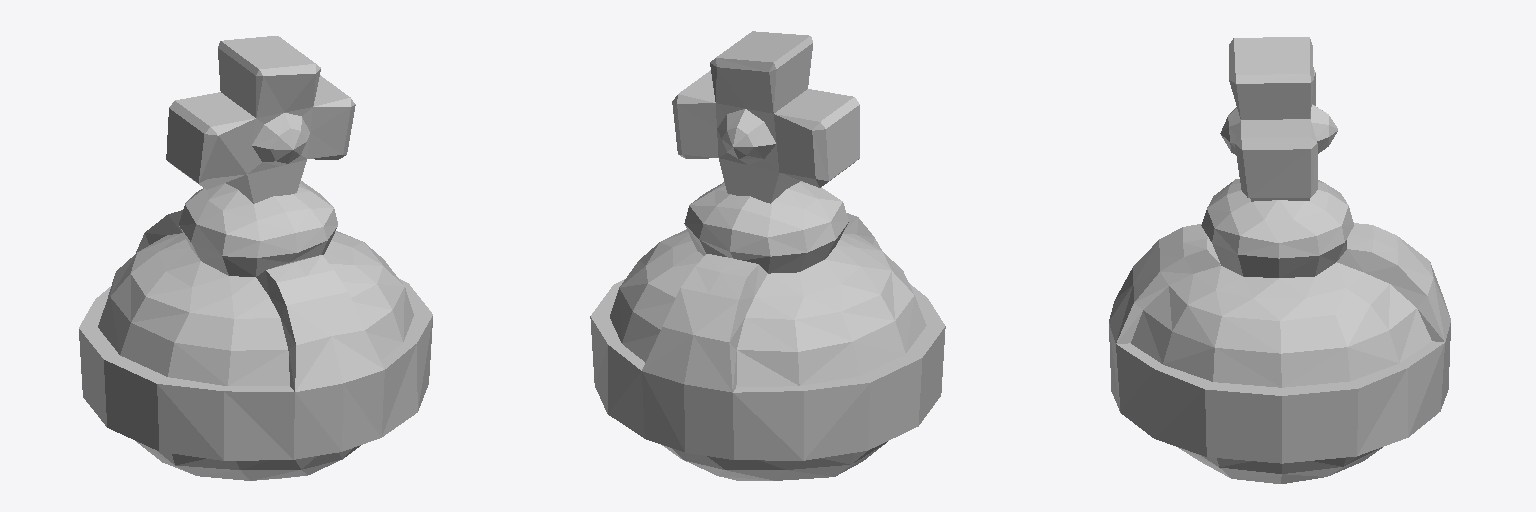
File: HolyHandGrenade.obj
3 renders of one model, left to right at view 1: azimuth 30°, elevation 25°; view 2: azimuth 150°, elevation 25°; view 3: azimuth 270°, elevation 25°, orthographic.
Parts seen in each view (by area): view 1: ball, cross; view 2: ball, cross; view 3: ball, cross.
Part boxes in pixels (x1,y1,x2,y2): ball: (79,181,432,480); cross: (166,36,355,203); ball: (590,181,945,480); cross: (672,31,859,203); ball: (1109,179,1450,483); cross: (1220,37,1337,201).
Bounding box in the file's own units: 1.52 × 1.99 × 1.47.